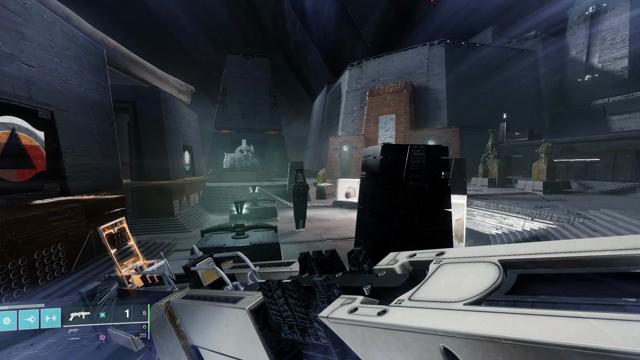pyramid: (0, 115, 47, 181)
traveler: (183, 151, 191, 171)
